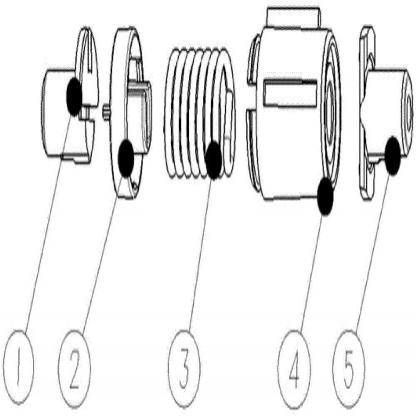FOD: (162, 38, 241, 185)
